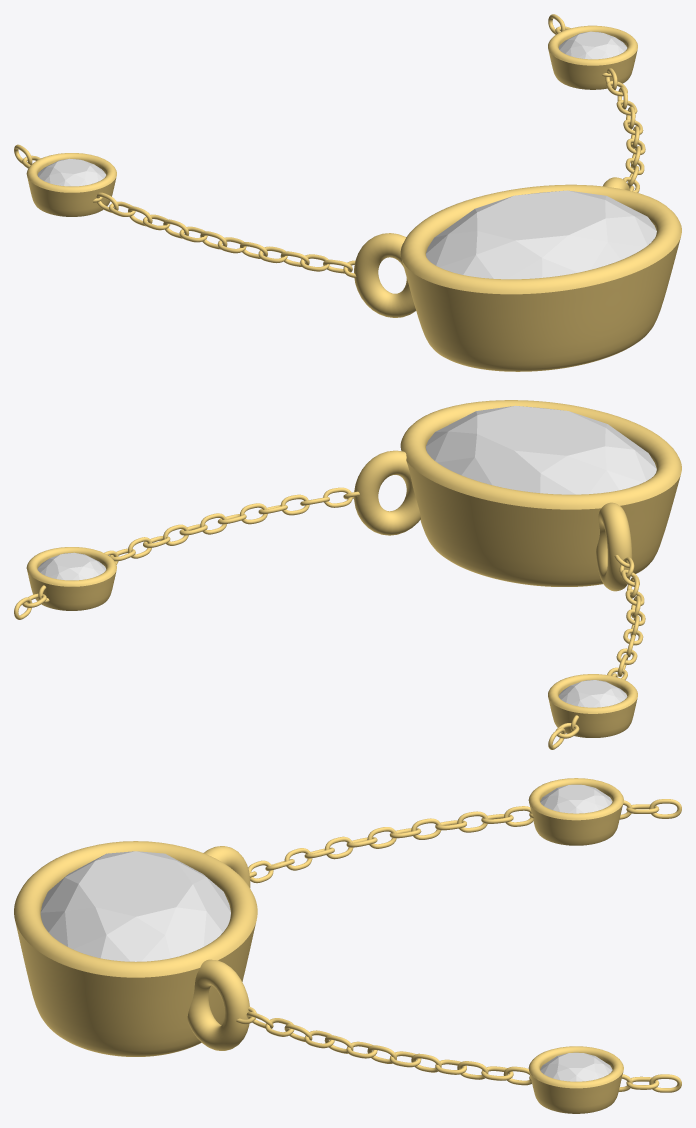
File: Karen_YG_pendant_blender.glb
3 views of the same model, one above another, from view 1: azimuth 30°, elevation 25°; view 2: azimuth 150°, elevation 25°; view 3: azimuth 270°, elevation 25° (orthographic). The views are drawn at different scales.
Visible parts, largest first — view 1: Karen YG for 3d model, Karen dia for 3d model.002, Karen dia for 3d model, Karen dia for 3d model.001; view 2: Karen YG for 3d model, Karen dia for 3d model.002, Karen dia for 3d model, Karen dia for 3d model.001; view 3: Karen YG for 3d model, Karen dia for 3d model.002, Karen dia for 3d model.001, Karen dia for 3d model.
Part boxes in pixels (x1=…): Karen YG for 3d model: x1=14, y1=14, x2=681, y2=371; Karen dia for 3d model.002: x1=426, y1=190, x2=656, y2=279; Karen dia for 3d model: x1=558, y1=31, x2=627, y2=59; Karen dia for 3d model.001: x1=37, y1=158, x2=106, y2=186; Karen YG for 3d model: x1=14, y1=400, x2=681, y2=749; Karen dia for 3d model.002: x1=426, y1=405, x2=656, y2=494; Karen dia for 3d model: x1=37, y1=552, x2=106, y2=580; Karen dia for 3d model.001: x1=558, y1=680, x2=627, y2=707; Karen YG for 3d model: x1=14, y1=778, x2=681, y2=1113; Karen dia for 3d model.002: x1=40, y1=851, x2=230, y2=961; Karen dia for 3d model.001: x1=540, y1=784, x2=612, y2=813; Karen dia for 3d model: x1=540, y1=1052, x2=612, y2=1081.
Bounding box in the file's own units: 17.01 × 3.16 × 15.57.
